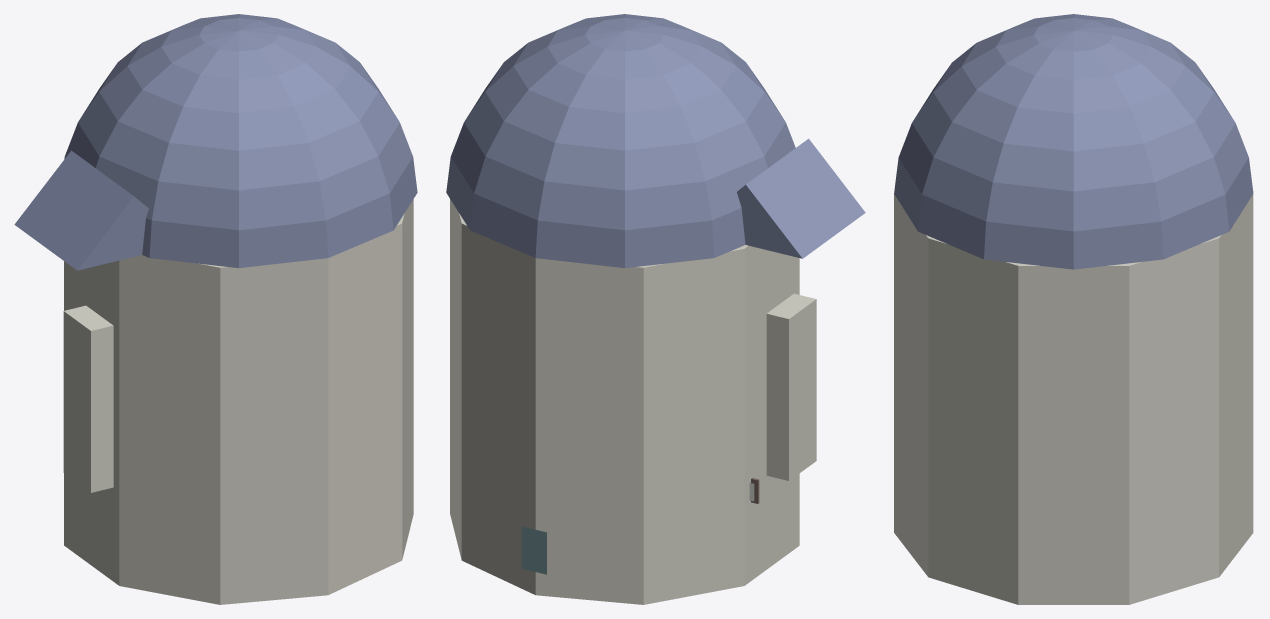
Rendered from moonhill-observatory-01.glb.
3 views of the same model, side by side, from view 1: azimuth 30°, elevation 25°; view 2: azimuth 150°, elevation 25°; view 3: azimuth 270°, elevation 25° (orthographic).
Parts seen in each view (by area): view 1: ObservatoryBase, ObservatoryDome, StudyRoof, StudyWing; view 2: ObservatoryBase, ObservatoryDome, StudyRoof, StudyWing, Door; view 3: ObservatoryBase, ObservatoryDome.
Part boxes in pixels (box(x1,y1,x2,y2)): ObservatoryBase: box(64, 199, 413, 604); ObservatoryDome: box(64, 14, 417, 268); StudyRoof: box(14, 150, 148, 270); StudyWing: box(63, 305, 113, 492); ObservatoryBase: box(450, 199, 799, 604); ObservatoryDome: box(446, 14, 795, 268); StudyRoof: box(737, 138, 865, 258); StudyWing: box(766, 293, 816, 480); Door: box(521, 526, 546, 574); ObservatoryBase: box(894, 194, 1253, 604); ObservatoryDome: box(894, 14, 1253, 269).
Size of the model in its own units: 5.06 by 6.78 by 4.43.
